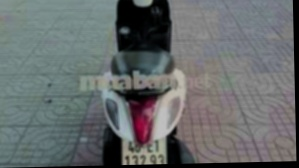Bien-so: (122, 135, 167, 164)
